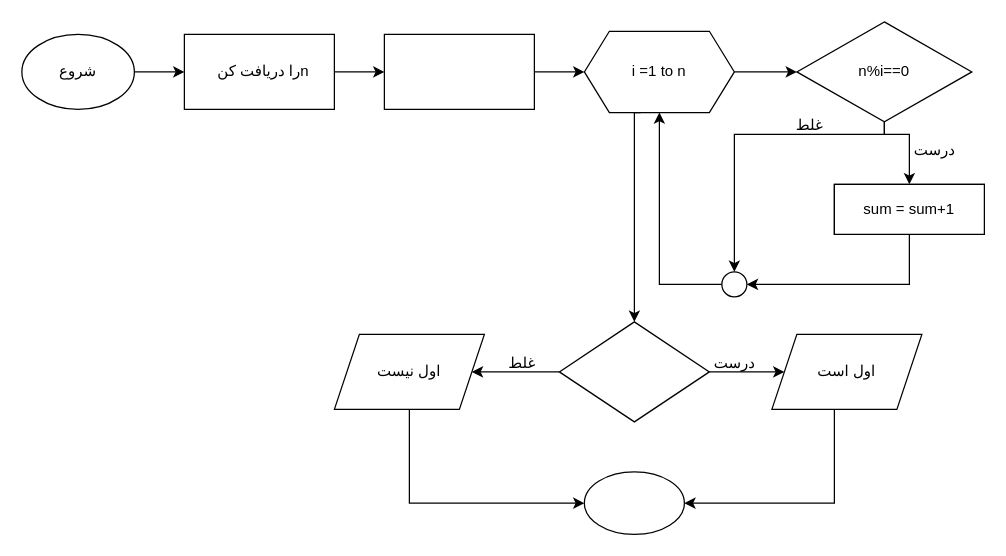
The diagram is 1006 pixels wide and 556 high, and some of its shapes have lost their labels. The centre of each missing label's shape, as x and y in pixels:
"sum=0" belongs at (458,71).
"sum==2" belongs at (633,371).
"پایان" belongs at (633,502).
